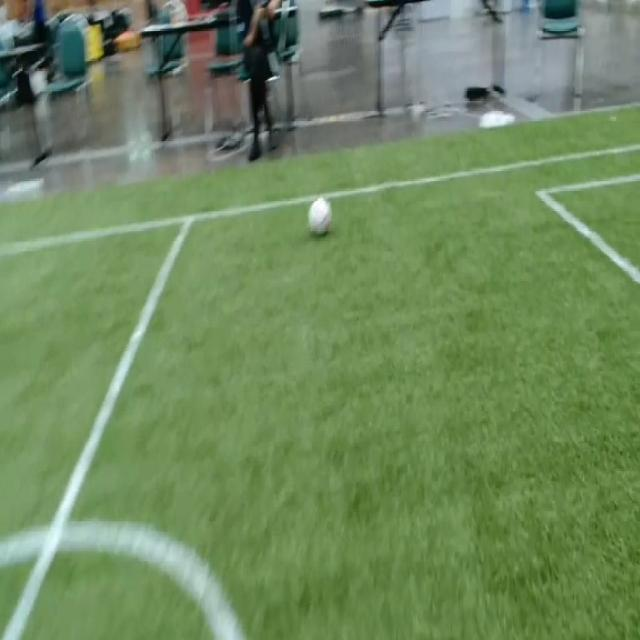ball: (309, 197, 331, 236)
